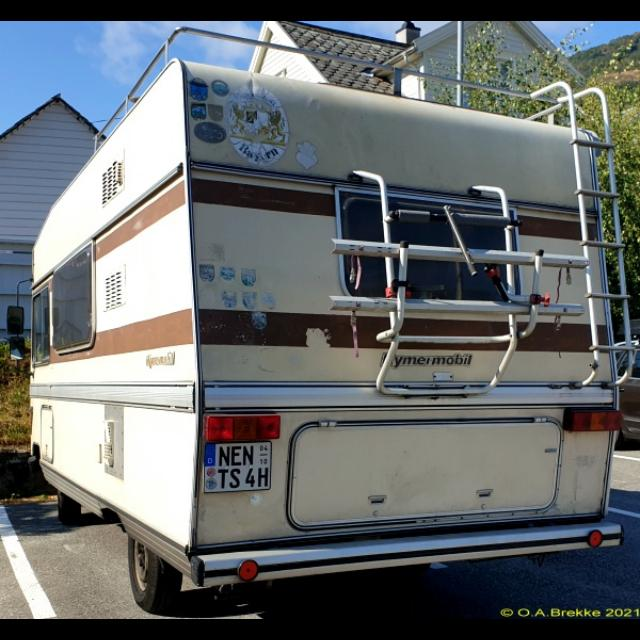d_license_plate: (202, 441, 270, 492)
